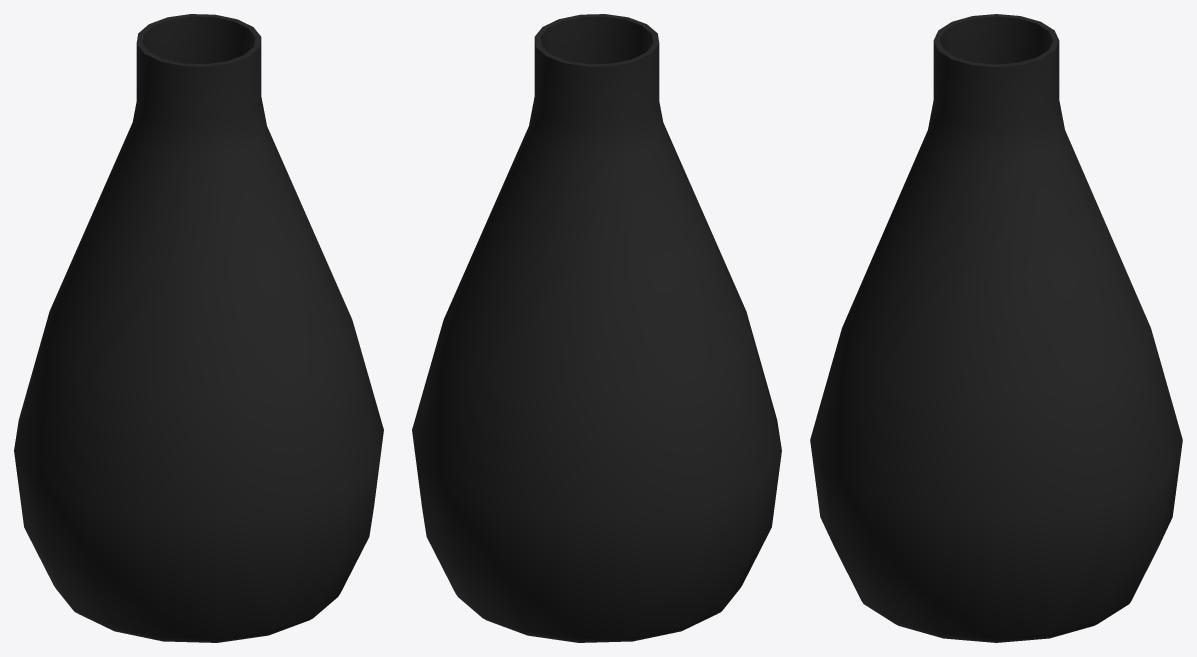
File: LargeOrnamental001.FBX
The picture shows the model from 3 angles, left to right: view 1: azimuth 30°, elevation 25°; view 2: azimuth 150°, elevation 25°; view 3: azimuth 270°, elevation 25°; orthographic projection.
Visible parts, largest first — view 1: LargeOrnamental001; view 2: LargeOrnamental001; view 3: LargeOrnamental001.
Part boxes in pixels (left/top/right/bottom): LargeOrnamental001: left=14, top=14, right=383, bottom=642; LargeOrnamental001: left=412, top=14, right=781, bottom=642; LargeOrnamental001: left=810, top=14, right=1182, bottom=642.
Bounding box in the file's own units: 0.717 × 1.16 × 0.717.
Materials: 1 (1 with a texture image).
